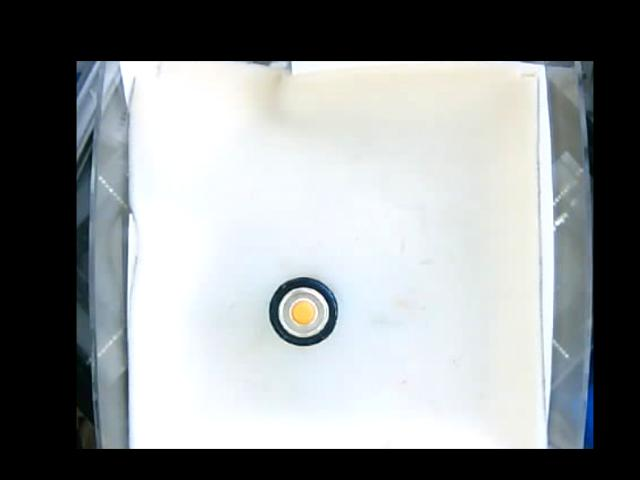Battery: (266, 274, 339, 349)
